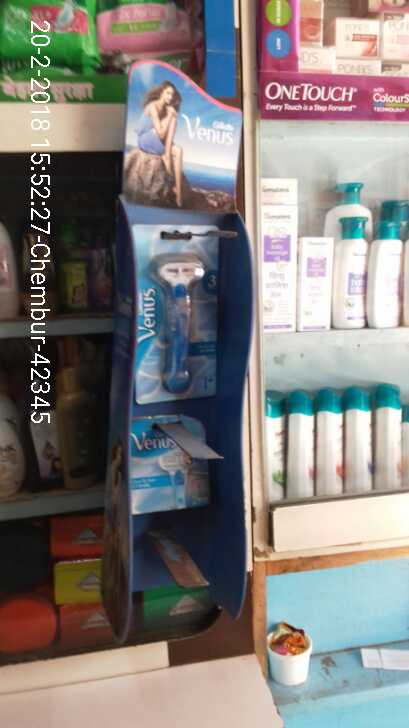venus: (127, 223, 226, 400), (125, 415, 220, 517)
